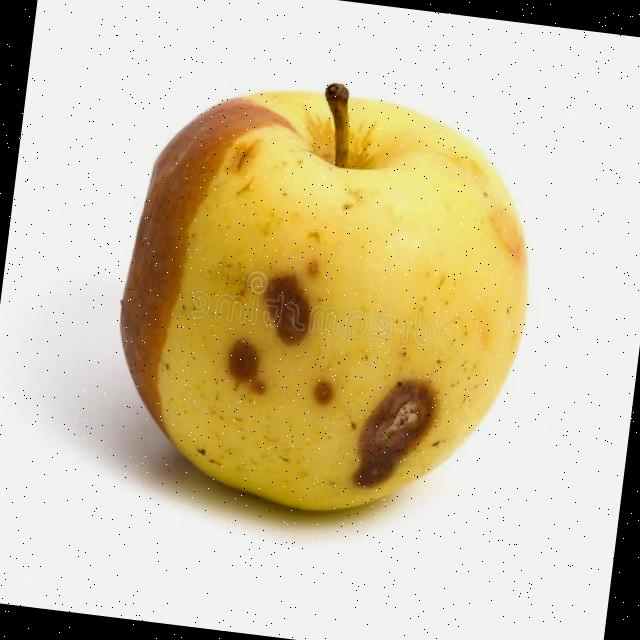rotten apple: (35, 12, 592, 580)
